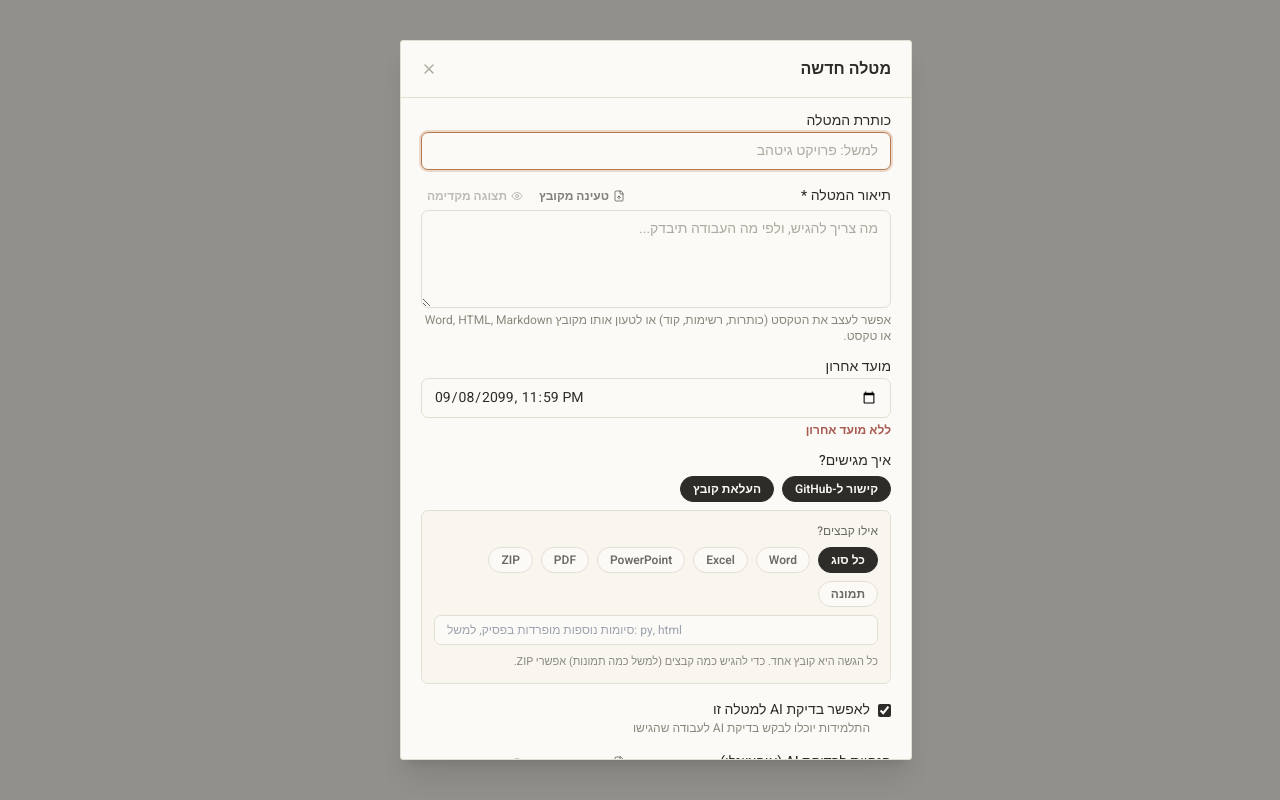
Test: AssignmentModal › will not create an assignment with a deadline that already passed
Type "פרויקט" into the field labelled "כותרת המטלה" at (656, 151), box [421,132,891,170]
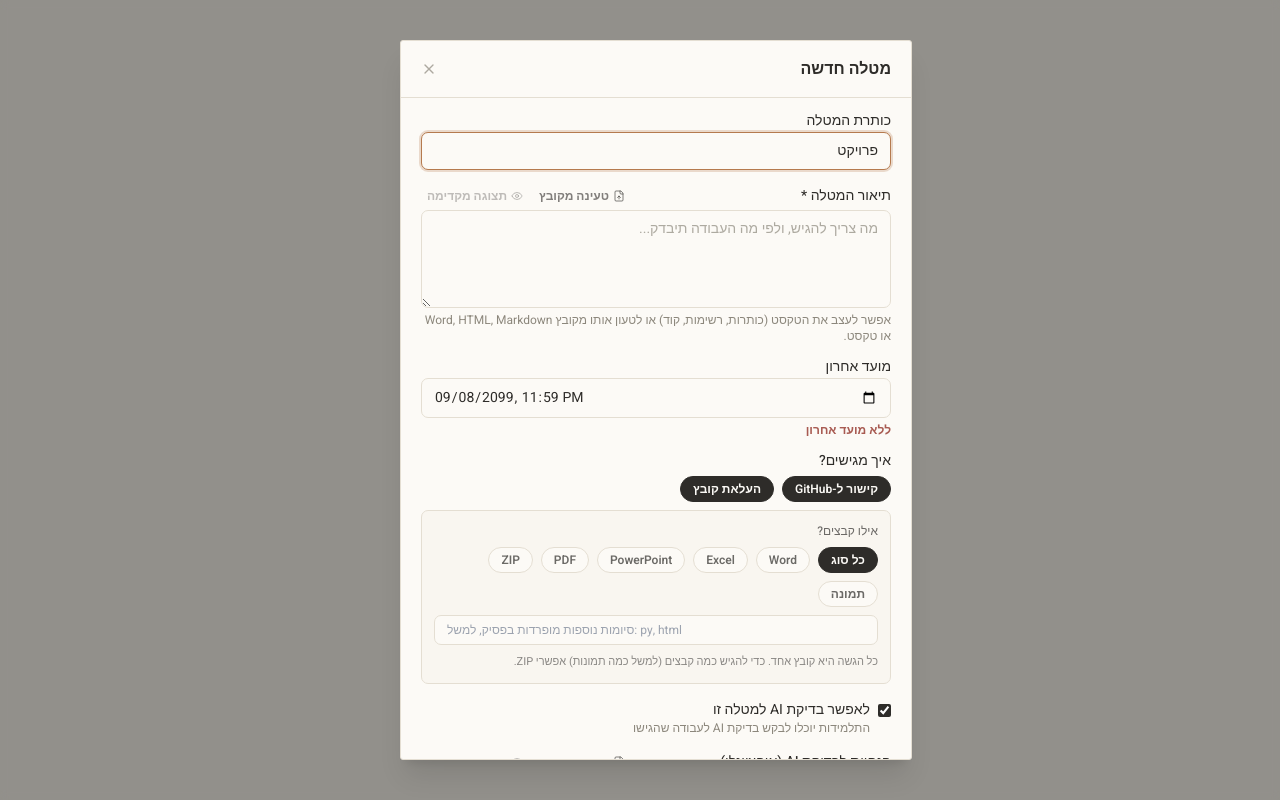
Type "הוראות" into the text box labelled "תיאור המטלה *" at (656, 259), box [421,210,891,308]
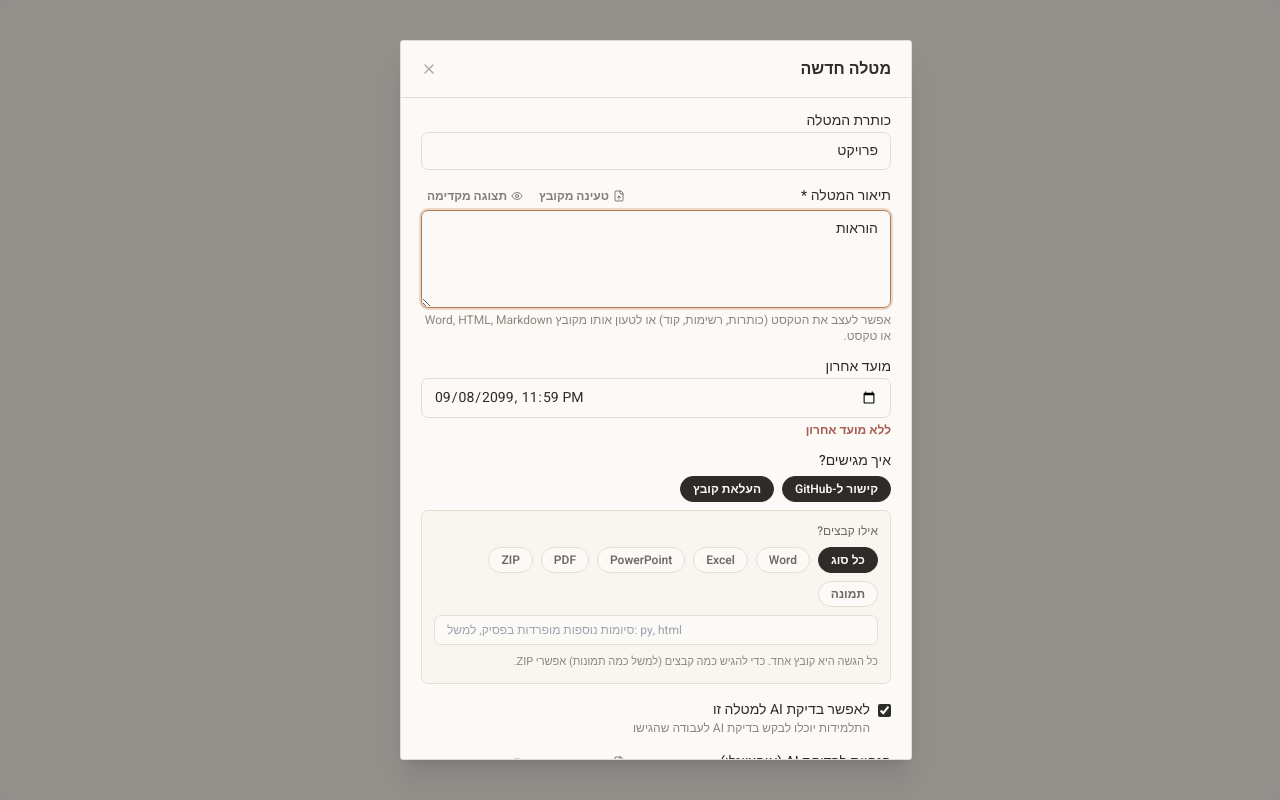
Replace the text in the field labelled "מועד אחרון" with "2020-01-01T10:00" at (656, 398), box [421,378,891,418]
(page scrolled)
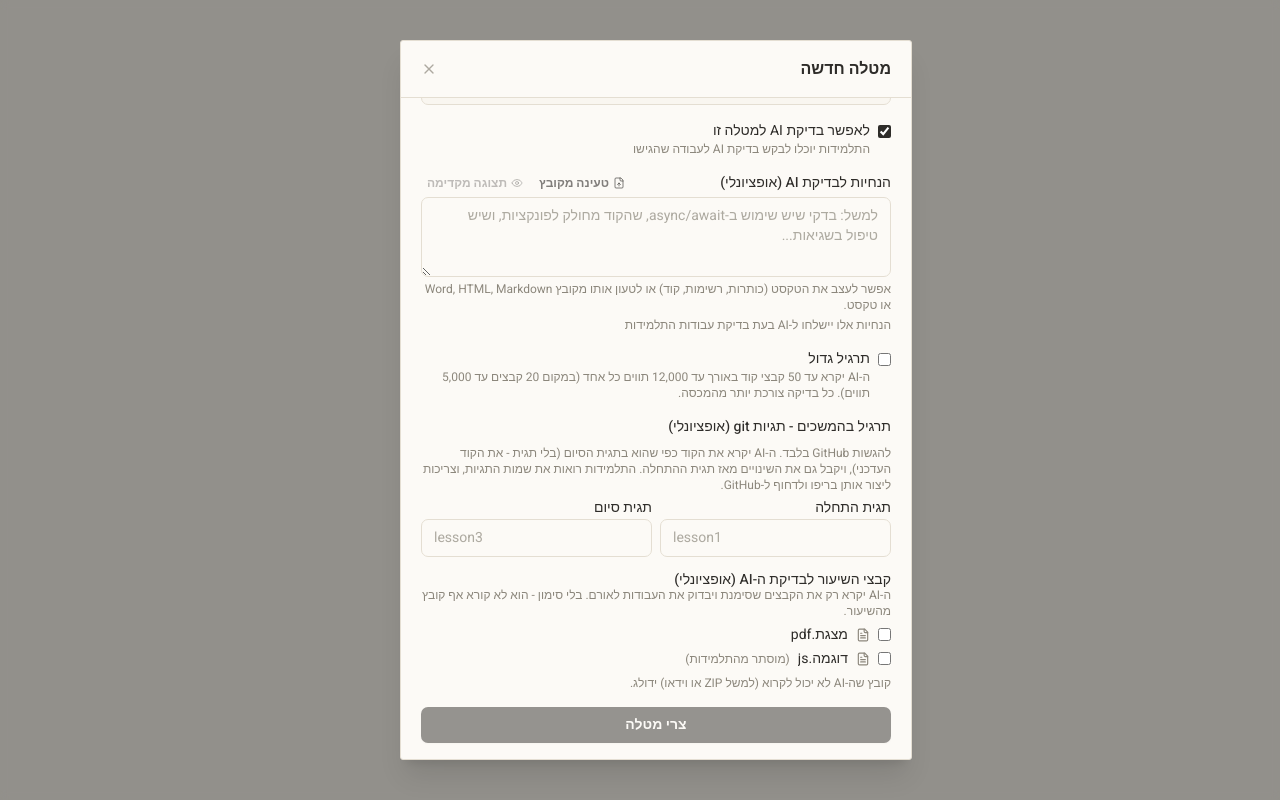
Check: the button "צרי מטלה" is disabled, box [421,707,891,743]
